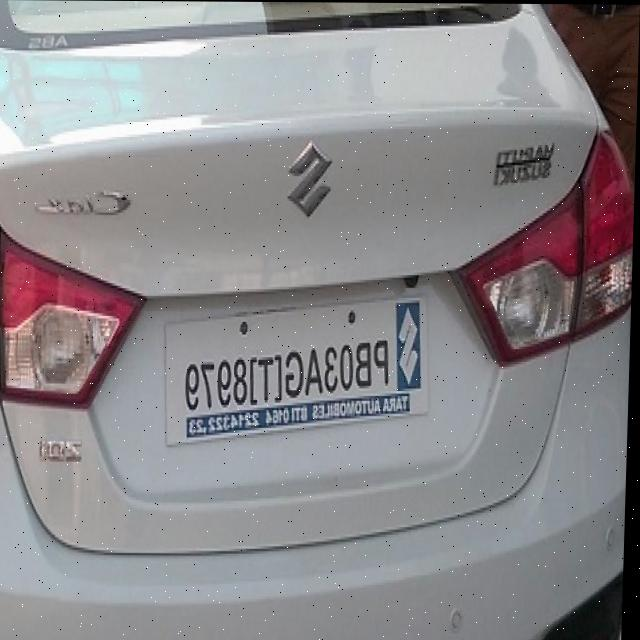plate: (163, 289, 435, 458)
